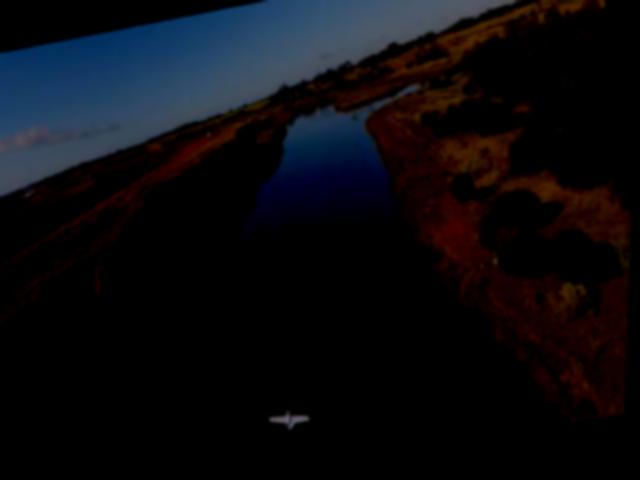uav: (268, 401, 317, 441)
